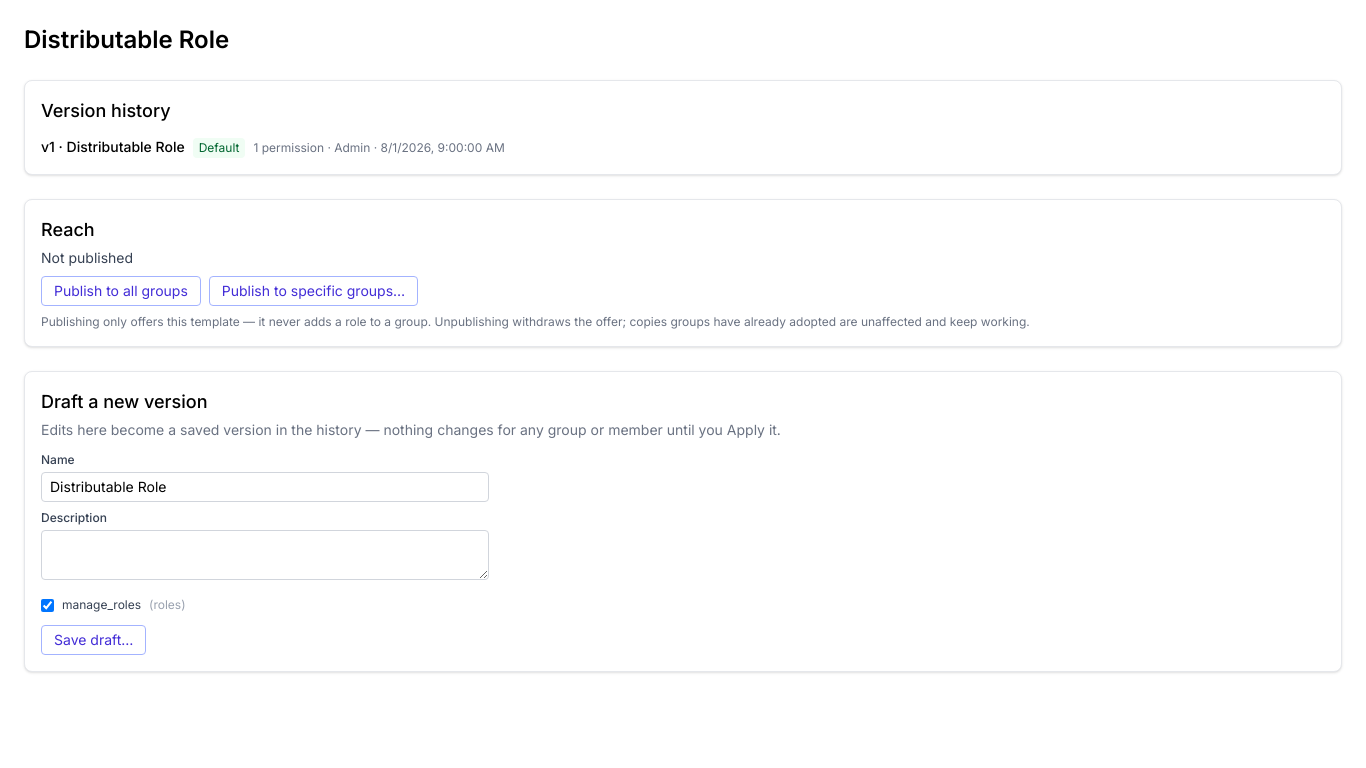
Test: FEAT-H044 STORY-3 — the reach section › W6: the targeted ceremony previews only the groups actually chosen
What coordinates should you click on to do the following:
click the button "Publish to specific groups…"
I would click on:
 (313, 291)
Its box is [209,276,418,306].
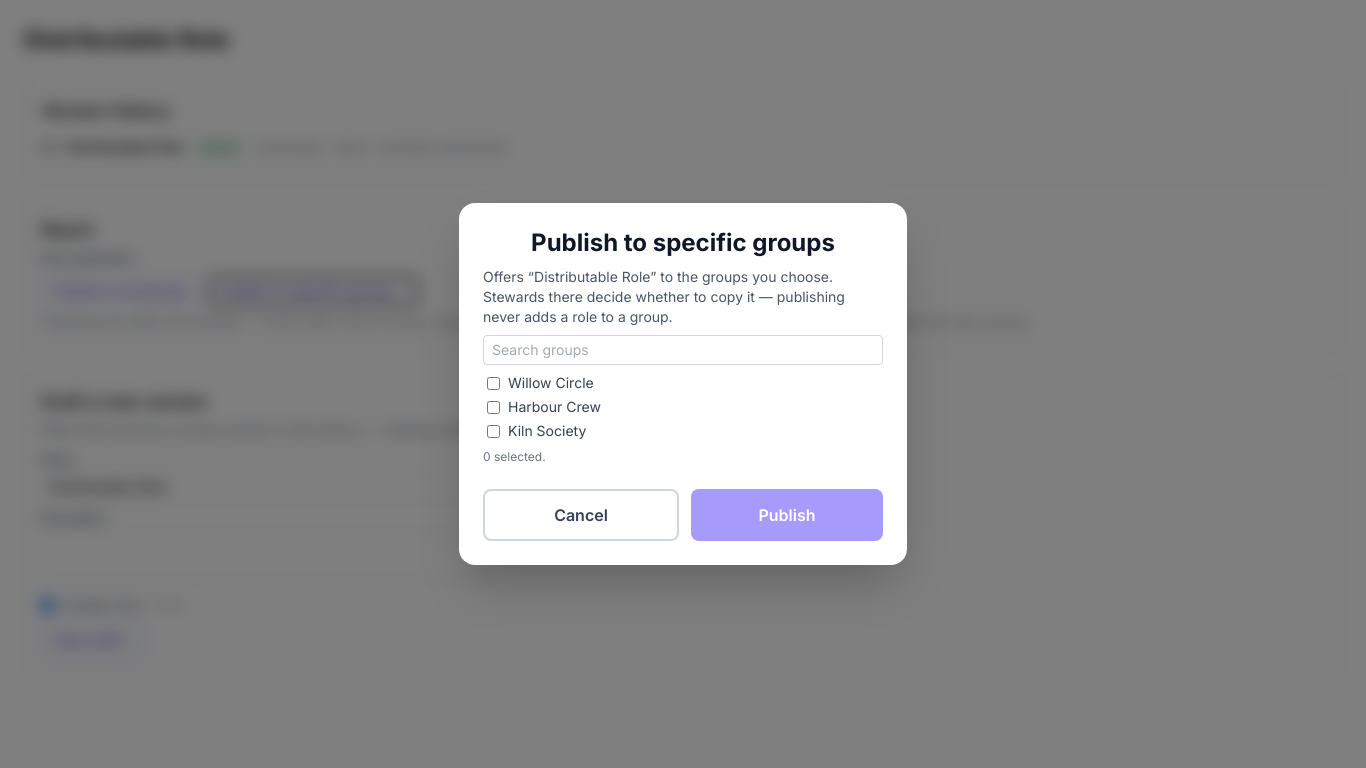
Now the text "Willow Circle" is shown
What coordinates should you click on to do the following:
click the label with test id "group-option-grp-1"
I would click on:
 (540, 382)
Its box is [487,374,594,391].
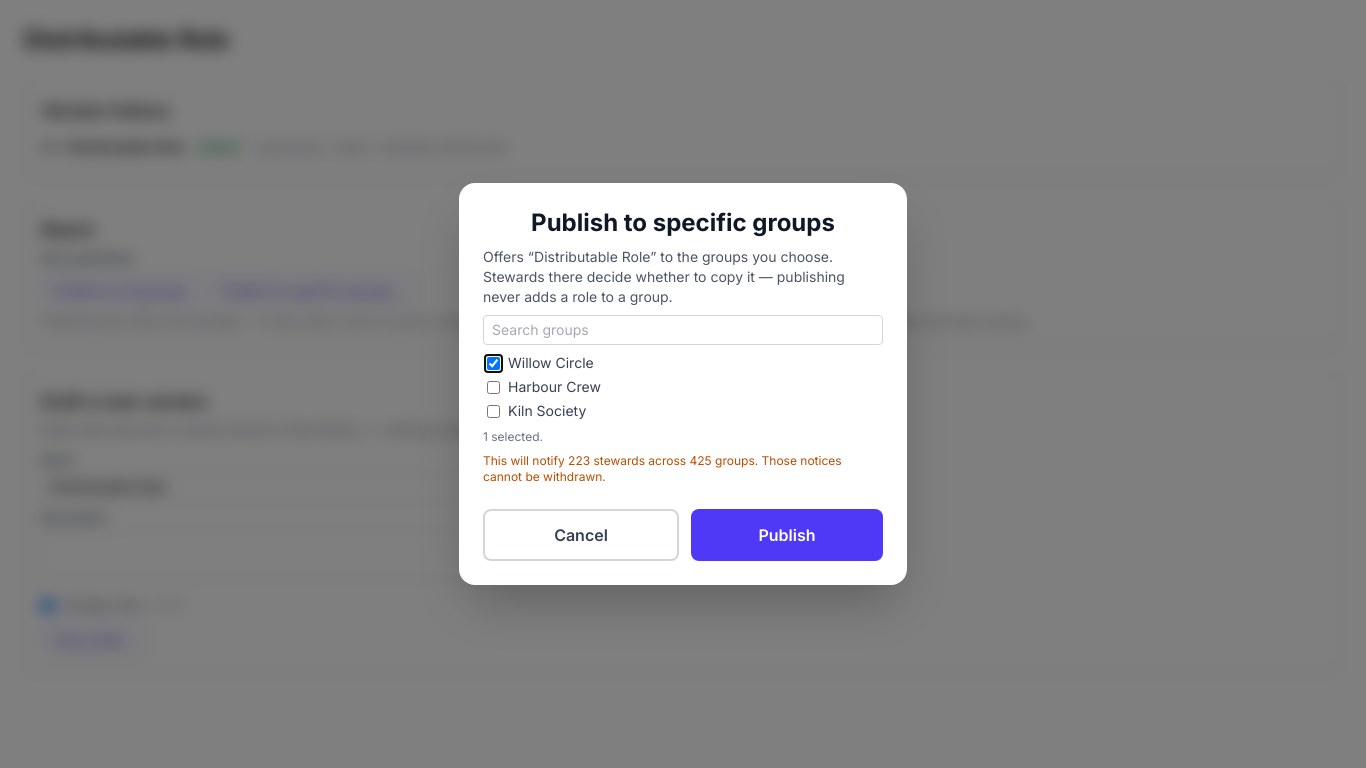
Now the text with test id "publish-blast-radius" shows "223", box [568,453,590,468]
